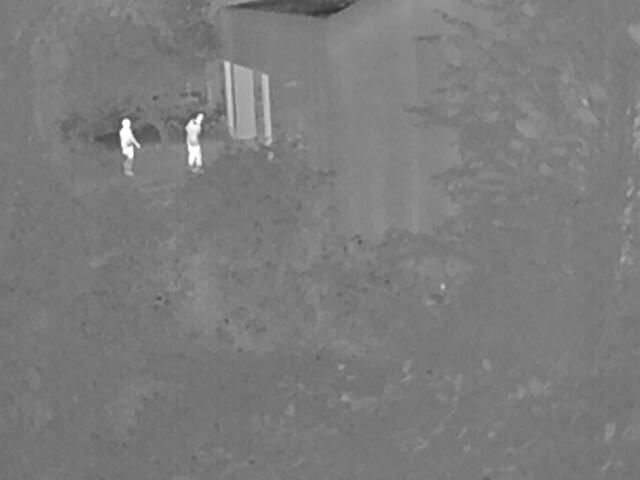person: (183, 111, 204, 172), (118, 116, 138, 177)
